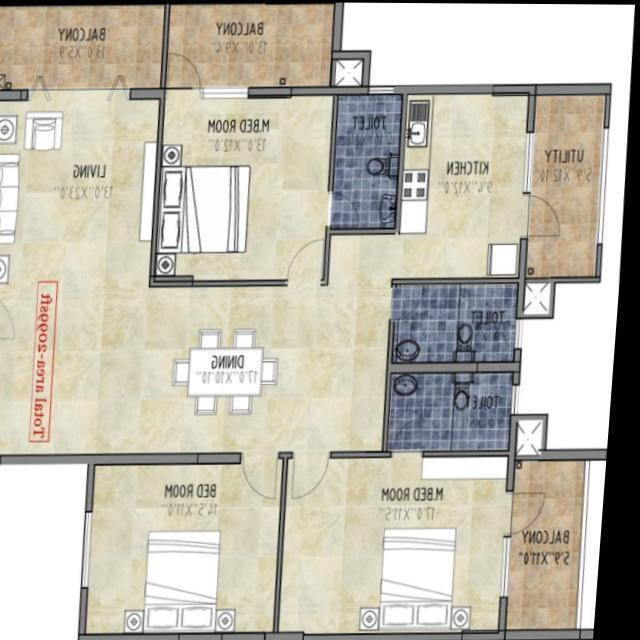Balcony-Sitout: (0, 7, 160, 86), (169, 8, 330, 84), (517, 463, 586, 625)
Bedroom: (95, 466, 287, 633)
Bedroom with Toilet: (286, 373, 514, 632), (153, 94, 401, 281)
Dining: (169, 320, 286, 422)
Enterance-Foyer: (0, 291, 31, 342)
Kitchen: (400, 96, 526, 276)
Living: (0, 98, 155, 448)
Toilet: (398, 283, 519, 360), (393, 375, 513, 451), (333, 96, 401, 224)
Utility: (529, 95, 603, 275)
